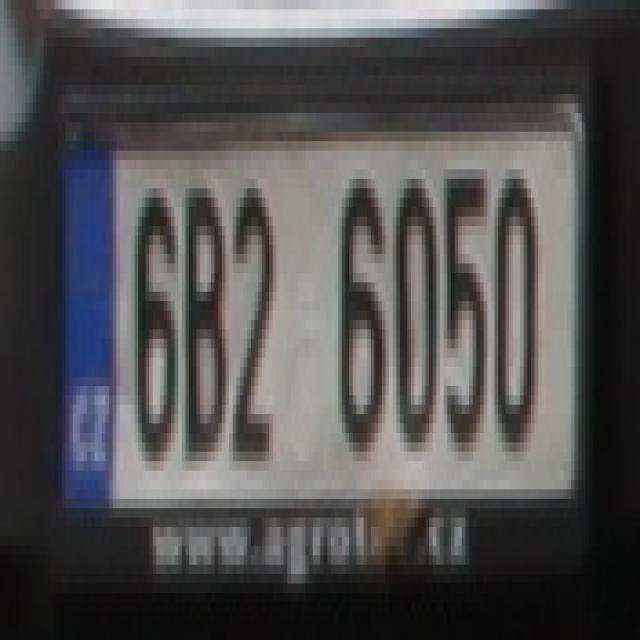0: (484, 170, 538, 442), (386, 170, 436, 442)
2: (229, 179, 280, 452)
5: (444, 170, 492, 442)
6: (334, 170, 386, 442), (127, 178, 175, 462)
B: (186, 178, 226, 462)
